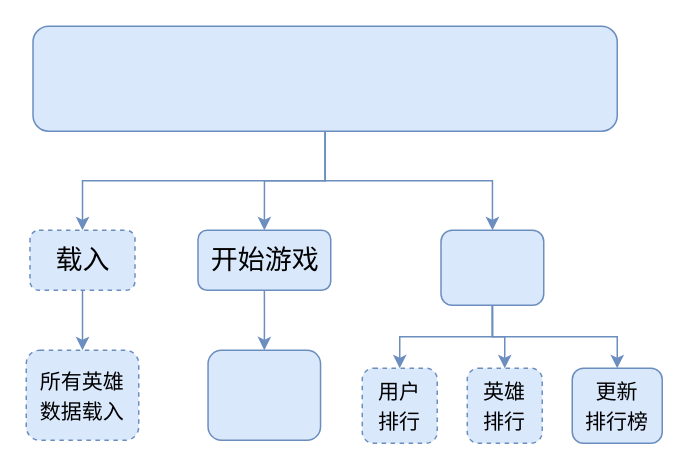
This 689x470 diagram has some shape labels left out. Here are the shapes that lost their labels. From the top down, the box of each, then its label:
(32, 25, 617, 131): 游戏大厅界面功能框架图
(440, 229, 544, 305): 排行榜刷新
(207, 349, 321, 440): 跳转至 游戏界面
